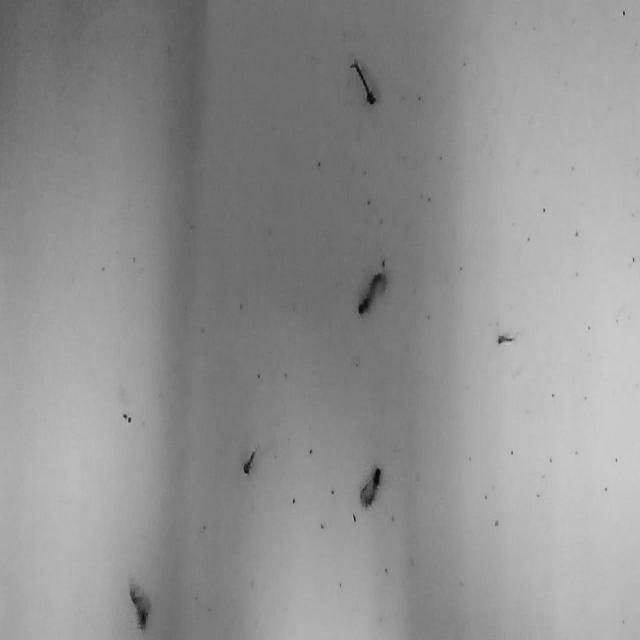larvas: (349, 56, 376, 106), (356, 273, 388, 312), (359, 466, 382, 508), (130, 584, 149, 631), (242, 440, 259, 476), (496, 330, 520, 344)
